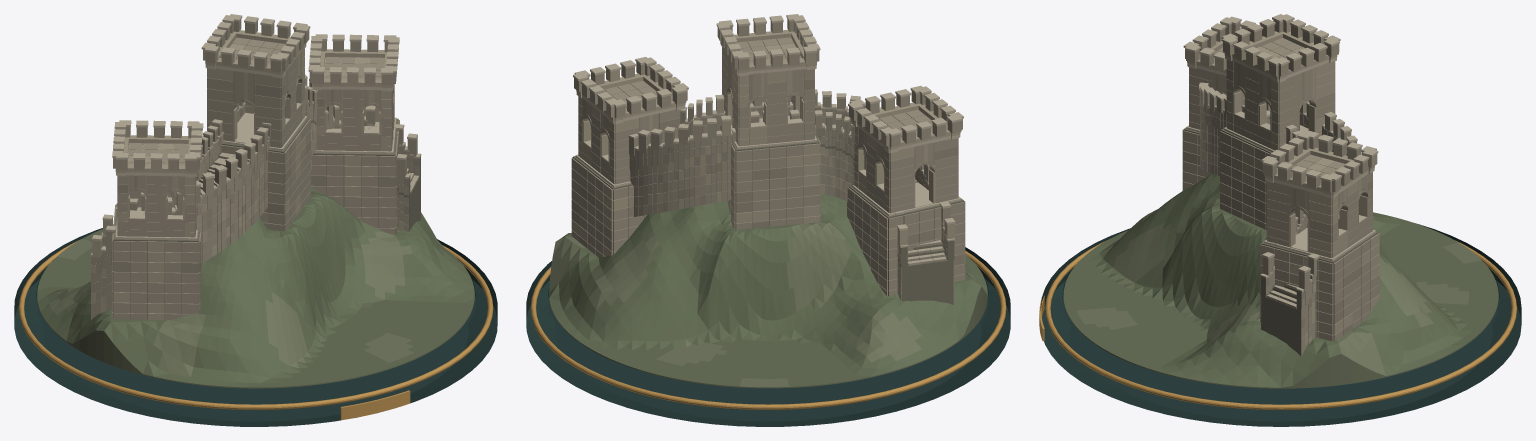
The model's file is china-great-wall.glb.
The picture shows the model from 3 angles, left to right: view 1: azimuth 30°, elevation 25°; view 2: azimuth 150°, elevation 25°; view 3: azimuth 270°, elevation 25°; orthographic projection.
Parts seen in each view (by area): view 1: Great Wall; view 2: Great Wall; view 3: Great Wall.
Part boxes in pixels (x1,y1,x2,y2): Great Wall: (14,14,497,426); Great Wall: (526,14,1010,426); Great Wall: (1039,14,1521,426).
Size of the model in its own units: 2.79 by 1.88 by 2.8.
